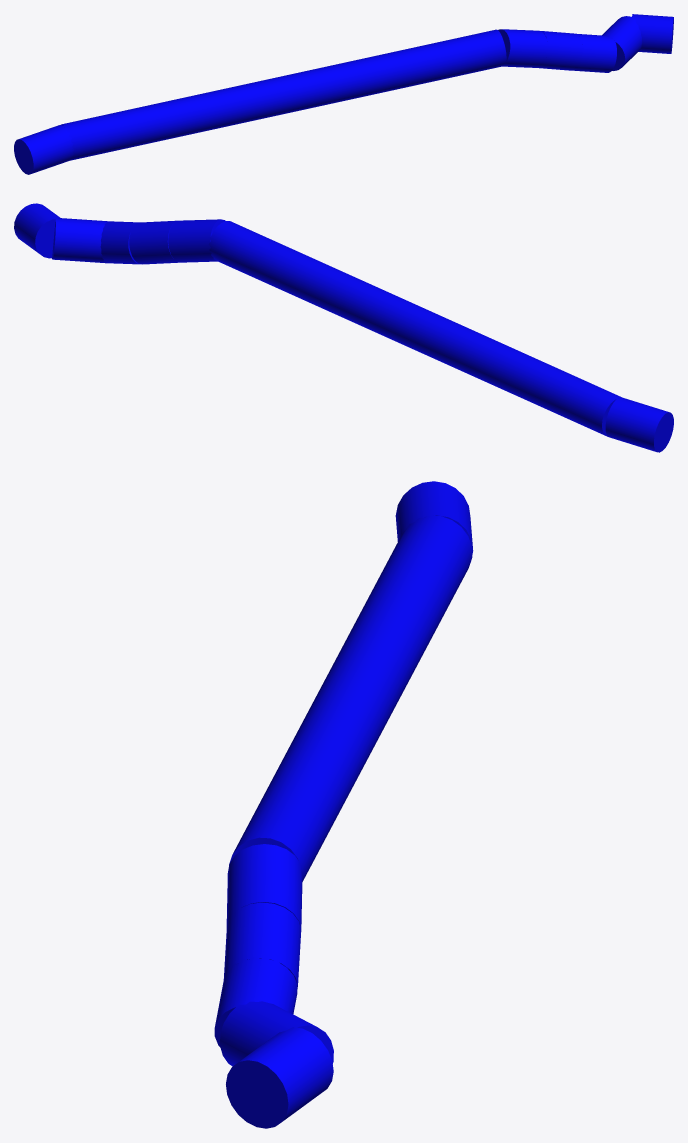
3 renders of one model, top to bottom at view 1: azimuth 30°, elevation 25°; view 2: azimuth 150°, elevation 25°; view 3: azimuth 270°, elevation 25°, orthographic. The views are drawn at different scales.
Visible parts, largest first — view 1: Cylinder(Clone) (×7); view 2: Cylinder(Clone) (×7); view 3: Cylinder(Clone) (×7).
Boxes of the visible parts, left/top/right/bottom form: Cylinder(Clone) (×7): left=14, top=14, right=673, bottom=174; Cylinder(Clone) (×7): left=14, top=203, right=673, bottom=452; Cylinder(Clone) (×7): left=214, top=481, right=473, bottom=1128.
Bounding box in the file's own units: 0.1898 × 0.0199 × 0.0345.
